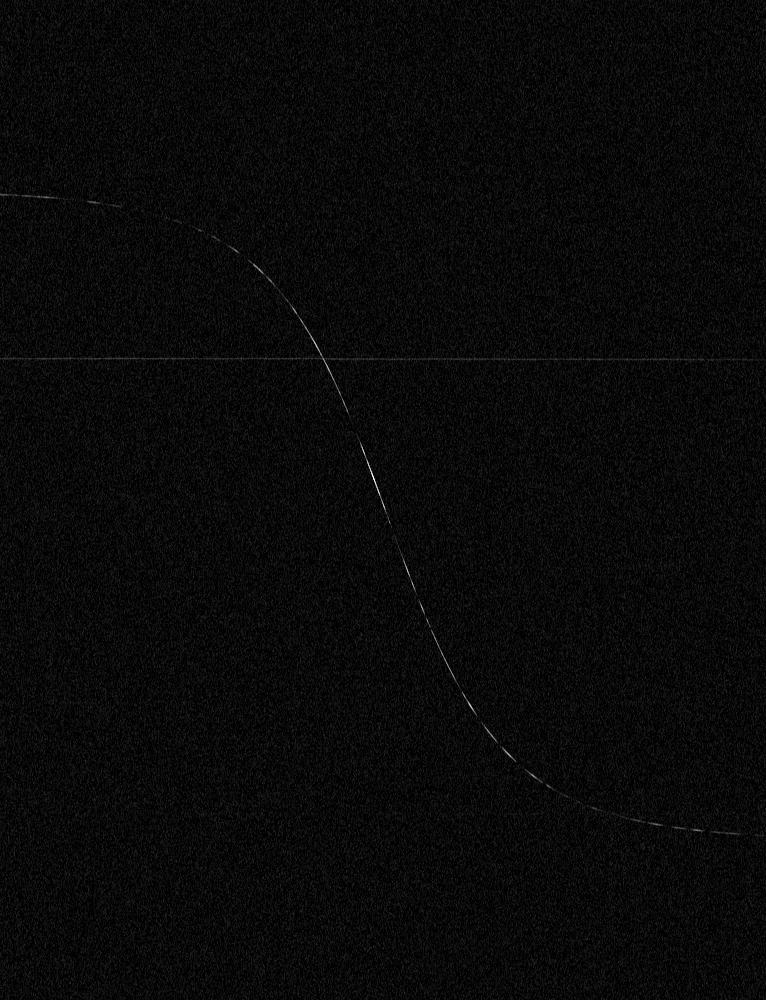signal: (0, 0, 765, 999)
